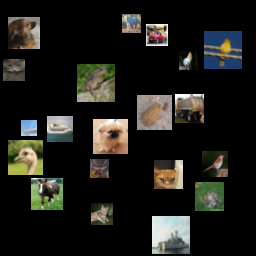airplane: (21, 120, 37, 136)
automobile: (146, 24, 168, 46)
bird: (204, 31, 242, 69), (8, 140, 43, 175), (202, 151, 228, 177), (179, 51, 198, 70)
cat: (154, 160, 183, 189), (91, 203, 113, 225), (3, 59, 25, 81)
deer: (195, 182, 224, 211), (90, 159, 109, 178)
dog: (93, 119, 128, 154), (8, 17, 40, 49)
frog: (77, 64, 115, 102), (137, 95, 172, 130)
ship: (152, 216, 190, 254), (47, 116, 73, 142)
